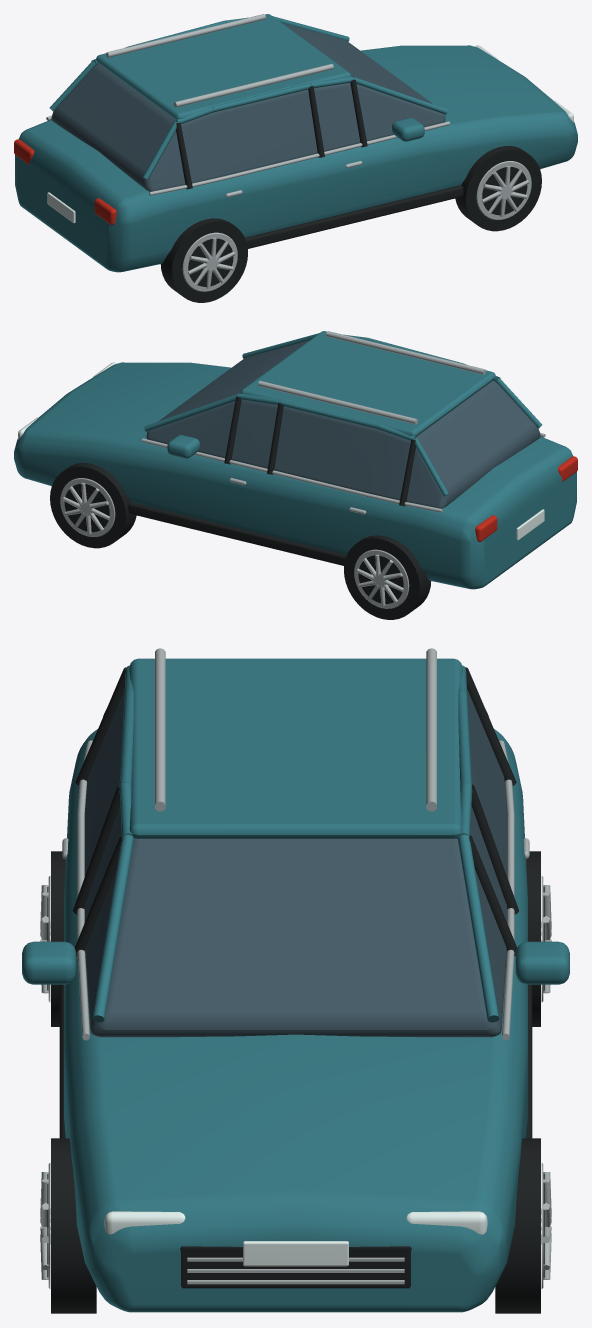
File: quayside_estate.glb
3 views of the same model, one above another, from view 1: azimuth 30°, elevation 25°; view 2: azimuth 150°, elevation 25°; view 3: azimuth 270°, elevation 25° (orthographic). The views are drawn at different scales.
Parts seen in each view (by area): view 1: quayside_estate; view 2: quayside_estate; view 3: quayside_estate.
Boxes of the visible parts, x1=… form: quayside_estate: x1=14, y1=14, x2=577, y2=302; quayside_estate: x1=14, y1=331, x2=577, y2=619; quayside_estate: x1=22, y1=648, x2=569, y2=1313.
Bounding box in the file's own units: 4.44 × 1.62 × 2.22.
